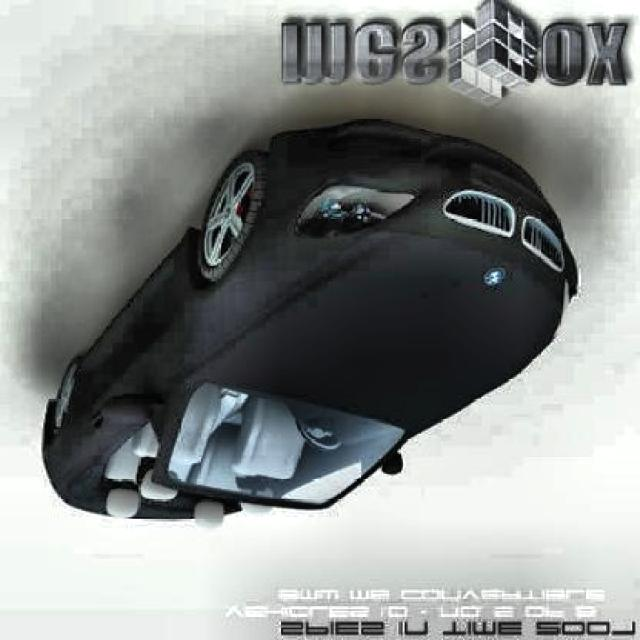black: (39, 143, 586, 528)
